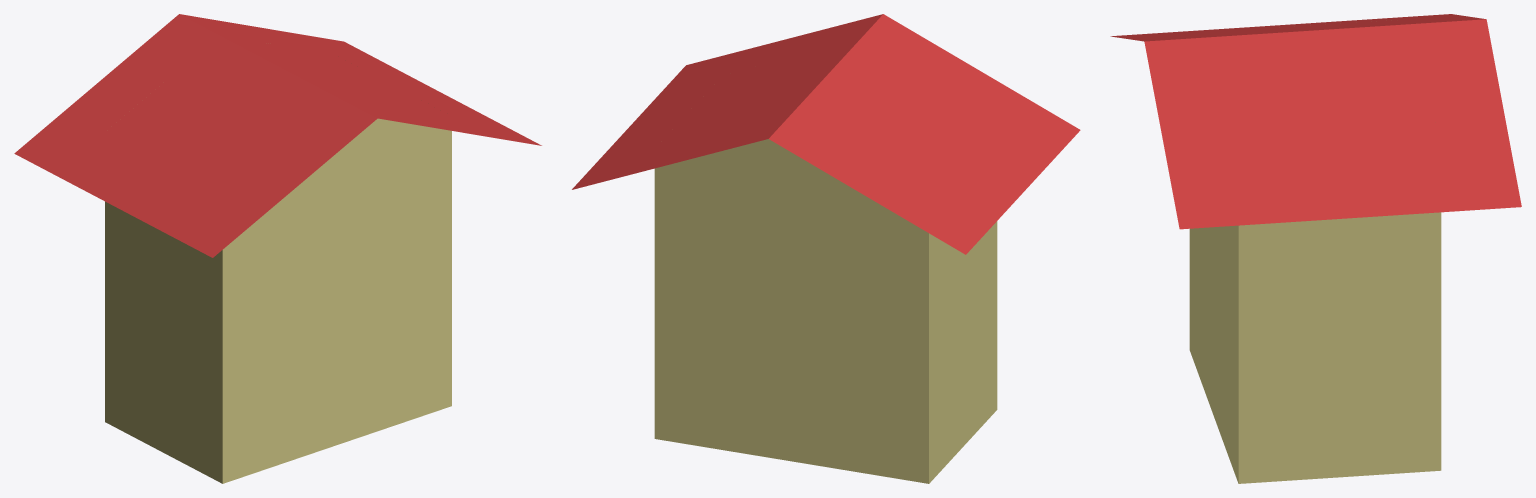
3 views of the same model, side by side, from view 1: azimuth 30°, elevation 25°; view 2: azimuth 150°, elevation 25°; view 3: azimuth 270°, elevation 25° (orthographic). The views are drawn at different scales.
Visible parts, largest first — view 1: group_5, group_3, group_4; view 2: group_5, group_3, group_4; view 3: group_5, group_4, group_3.
Boxes of the visible parts, x1=… form: group_5: x1=105, y1=118, x2=451, y2=483; group_3: x1=105, y1=14, x2=451, y2=257; group_4: x1=14, y1=14, x2=541, y2=257; group_5: x1=654, y1=139, x2=997, y2=483; group_3: x1=655, y1=14, x2=1079, y2=239; group_4: x1=572, y1=14, x2=1080, y2=254; group_5: x1=1189, y1=212, x2=1441, y2=483; group_4: x1=1112, y1=14, x2=1521, y2=229; group_3: x1=1110, y1=19, x2=1519, y2=228.
Size of the model in its own units: 14.46 by 11.71 by 11.89.
